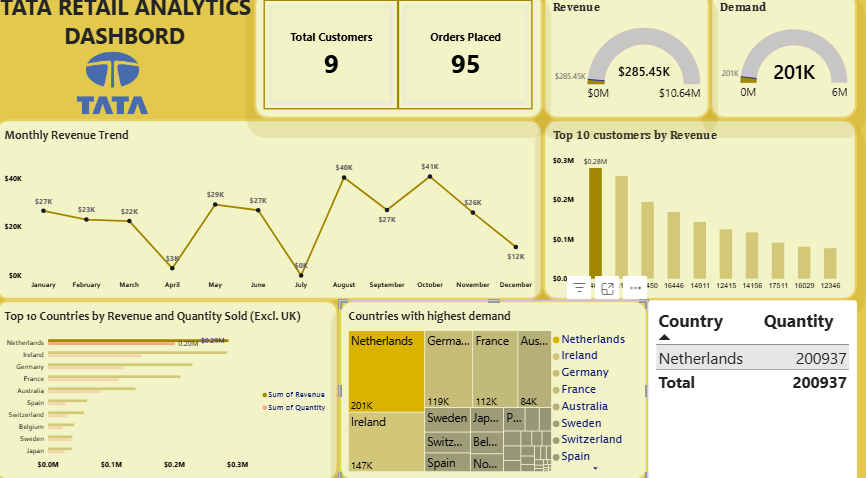

This screenshot's page, from the dashboard's own definition file:
{"tool":"powerbi","page":{"name":"Retail_Sales_Analytics_Dashbord","canvas":[1920,1080],"ordinal":0},"visuals":[{"type":"lineChart","title":"Monthly Revenue Trend","fields":{"Category":["Online Retail.InvoiceDate.Variation.Date Hierarchy.Year","Online Retail.InvoiceDate.Variation.Date Hierarchy.Quarter","Online Retail.InvoiceDate.Variation.Date Hierarchy.Month"],"Y":["Sum(Online Retail.Revenue)"]},"box":[0,282.1,1207.8,398.9],"z":0},{"type":"clusteredBarChart","title":"Top 10 Countries by Revenue and Quantity Sold (Excl. UK)","fields":{"Category":["Online Retail.Country"],"Y":["Sum(Online Retail.Revenue)","Sum(Online Retail.Quantity)"]},"box":[0,681.1,758.2,398.9],"z":1},{"type":"columnChart","title":"Top 10 customers by Revenue","fields":{"Category":["Online Retail.CustomerID"],"Y":["Sum(Online Retail.Revenue)"]},"box":[1207.8,282.1,692.1,398.9],"z":2},{"type":"treemap","title":"Countries with highest demand","fields":{"Group":["Online Retail.Country"],"Values":["Sum(Online Retail.Quantity)"]},"box":[758.2,681.1,681.1,398.9],"z":3},{"type":"tableEx","fields":{"Values":["Online Retail.Country","Sum(Online Retail.Quantity)"]},"box":[1439.3,681.1,460.7,398.9],"z":4},{"type":"gauge","title":"Demand","fields":{"Y":["Measures_table.Total Quantity"]},"box":[1575.9,0,324,282.1],"z":5},{"type":"gauge","title":" Revenue","fields":{"Y":["Measures_table.Total Revenue"]},"box":[1207.8,0,368.1,282.1],"z":6},{"type":"cardVisual","fields":{"Data":["Measures_table.Number of Customers","Measures_table.Total Orders Placed"]},"box":[570.9,0,637,282.1],"z":7},{"type":"textbox","box":[0,0,570.9,202.8],"z":8},{"type":"image","box":[119,125.6,279.9,154.3],"z":9}]}

Visuals, with their boxes in screenshot pixels (x1, y1, x2, y2), scaled from the page's 1920x1080 canvas onto the 866x478 screenshot:
"Monthly Revenue Trend" lineChart: BBox(0, 125, 545, 301)
"Top 10 Countries by Revenue and Quantity Sold (Excl. UK)" clusteredBarChart: BBox(0, 301, 342, 477)
"Top 10 customers by Revenue" columnChart: BBox(545, 125, 857, 301)
"Countries with highest demand" treemap: BBox(342, 301, 649, 477)
tableEx - Online Retail.Country x Sum(Online Retail.Quantity): BBox(649, 301, 857, 477)
"Demand" gauge: BBox(711, 0, 857, 125)
" Revenue" gauge: BBox(545, 0, 711, 125)
cardVisual - Measures_table.Number of Customers x Measures_table.Total Orders Placed: BBox(257, 0, 545, 125)
textbox: BBox(0, 0, 257, 90)
image: BBox(54, 56, 180, 124)
